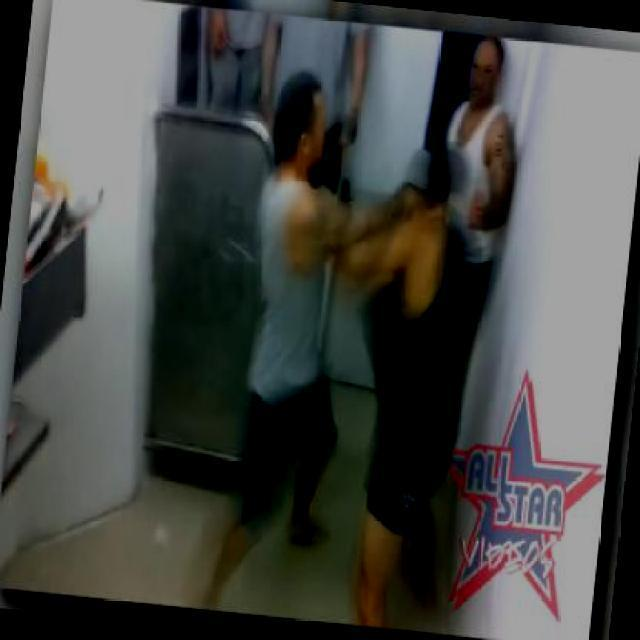fight: (219, 65, 490, 604)
